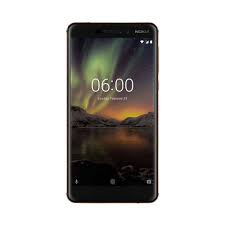nokia: (61, 18, 161, 204)
